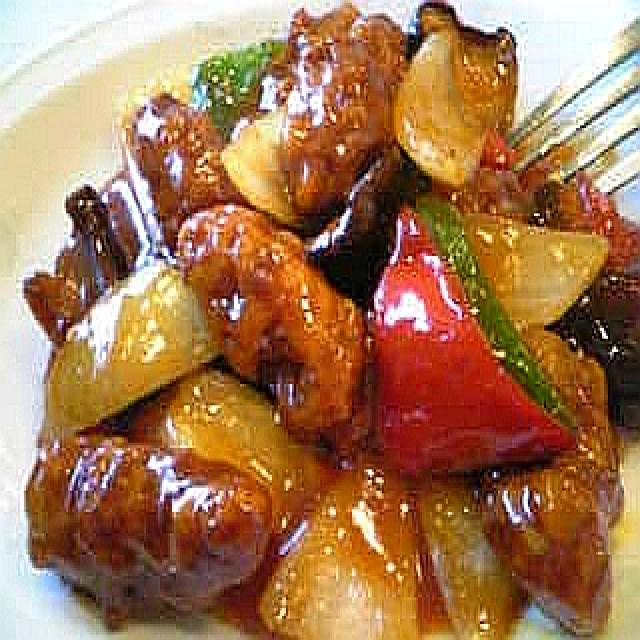猪肉菜式: (20, 0, 640, 635)
